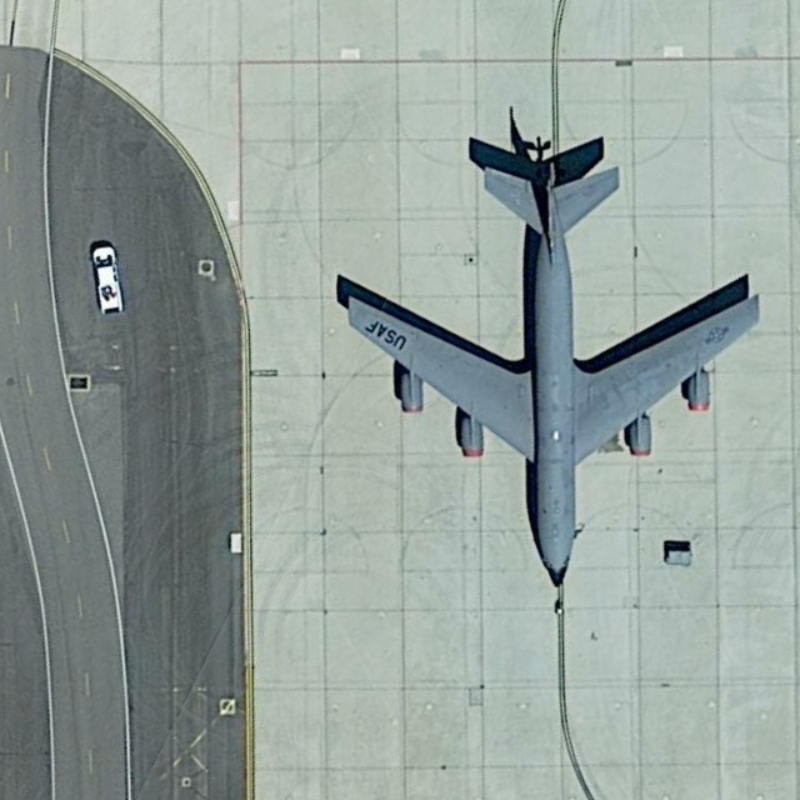A14: (342, 144, 767, 589)
